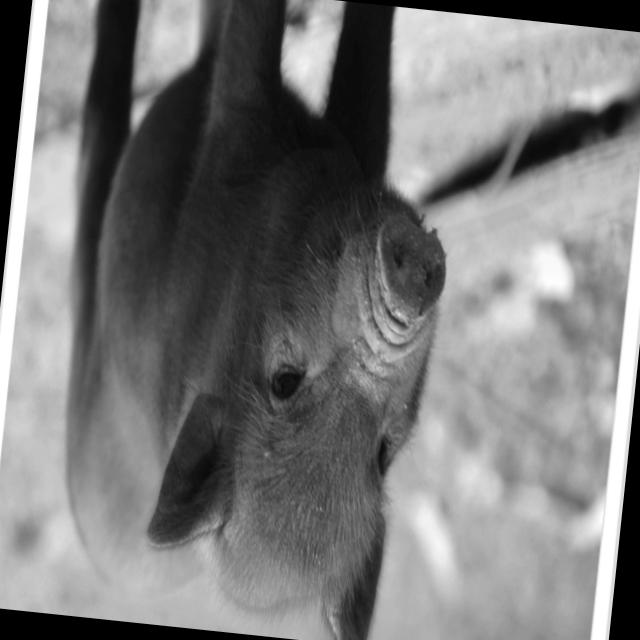pig: (64, 0, 448, 640)
